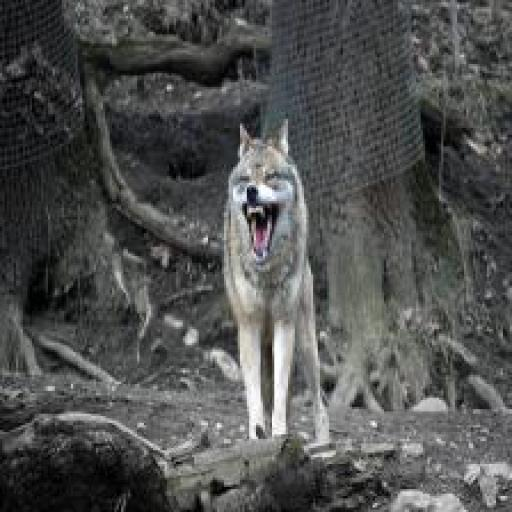wolf: (210, 105, 349, 453)
